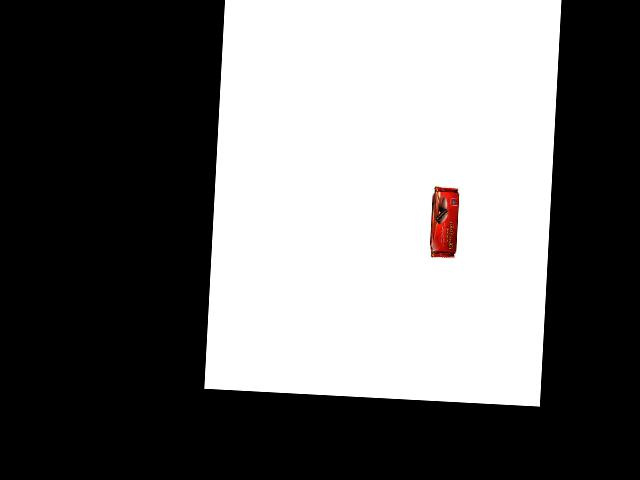chocolate: (422, 184, 460, 259)
